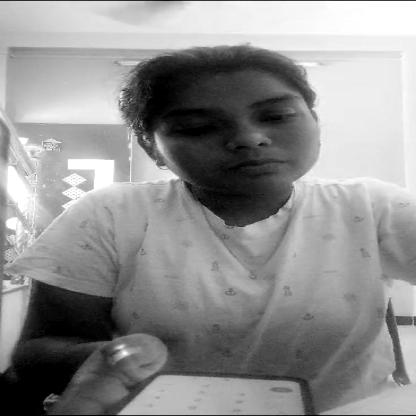Distracted: (124, 48, 340, 196)
